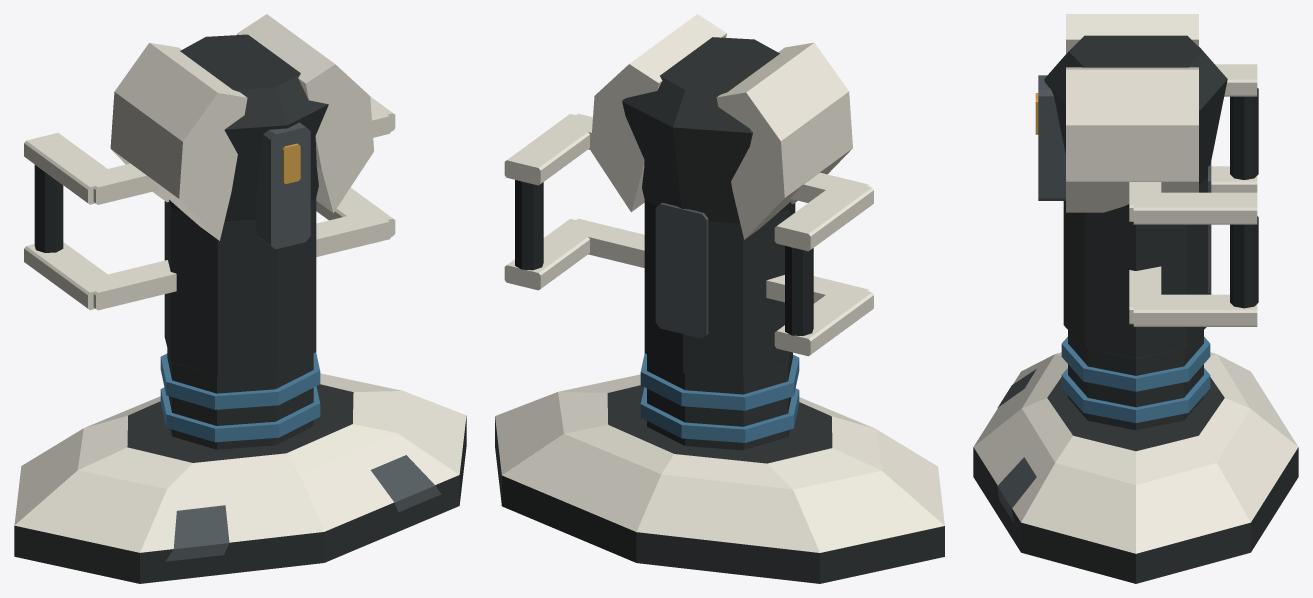
File: wield-wake-driver.glb
3 renders of one model, left to right at view 1: azimuth 30°, elevation 25°; view 2: azimuth 150°, elevation 25°; view 3: azimuth 270°, elevation 25°, orthographic. The views are drawn at different scales.
Visible parts, largest first — view 1: driver__static_mesh, driver__piston_mesh; view 2: driver__static_mesh, driver__piston_mesh; view 3: driver__static_mesh, driver__piston_mesh.
Boxes of the visible parts, x1,y1,x2,y2 form: driver__static_mesh: (24,14,395,375); driver__piston_mesh: (14,349,466,583); driver__static_mesh: (504,14,873,376); driver__piston_mesh: (495,352,944,583); driver__static_mesh: (1035,14,1258,357); driver__piston_mesh: (973,330,1298,583).
Size of the model in its own units: 0.7 by 0.665 by 0.45.
